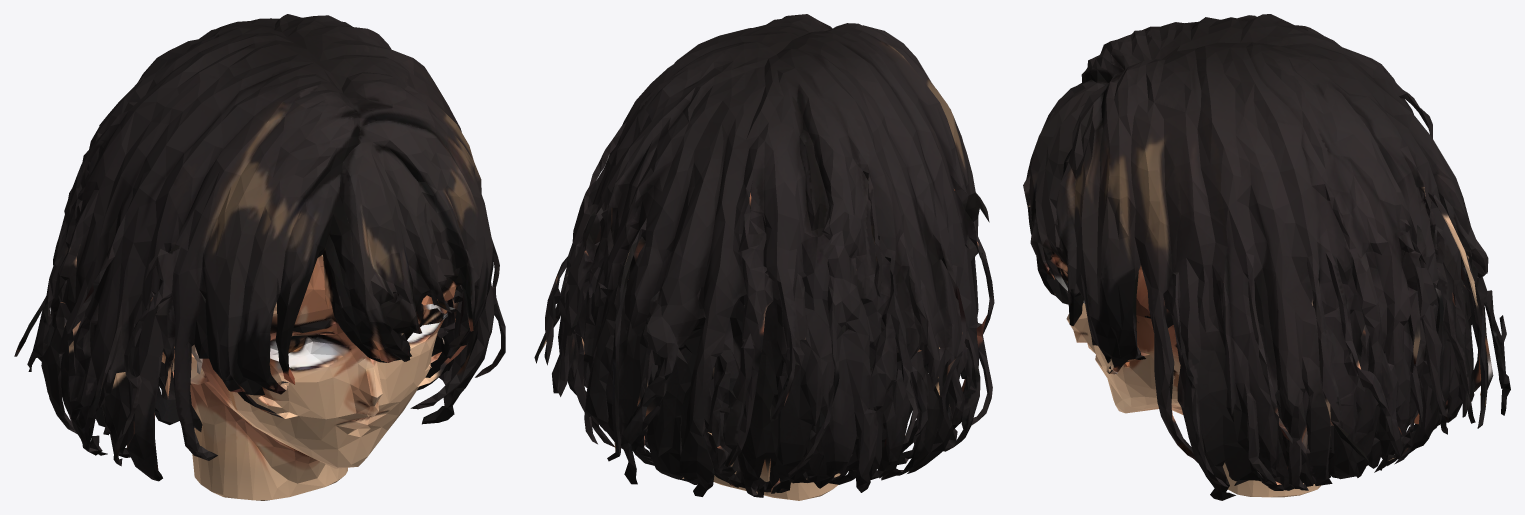
File: side_sanro_repaired_atlas.glb
3 views of the same model, side by side, from view 1: azimuth 30°, elevation 25°; view 2: azimuth 150°, elevation 25°; view 3: azimuth 270°, elevation 25° (orthographic). The views are drawn at different scales.
Visible parts, largest first — view 1: temp_mesh.ply; view 2: temp_mesh.ply; view 3: temp_mesh.ply.
Boxes of the visible parts, x1,y1,x2,y2 form: temp_mesh.ply: (14,14,505,500); temp_mesh.ply: (534,14,994,500); temp_mesh.ply: (1023,14,1510,500).
Bounding box in the file's own units: 1.18 × 1.24 × 1.26.
1 material, 1 textured.
